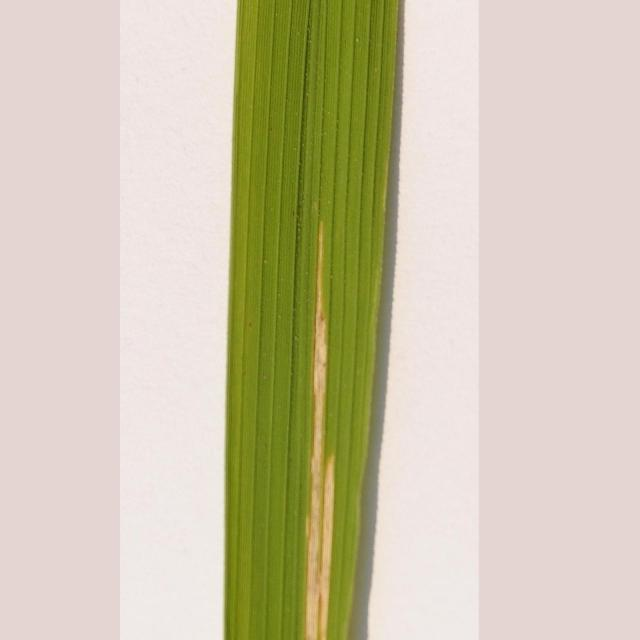Bacterial leaf blight: (302, 201, 342, 640)
